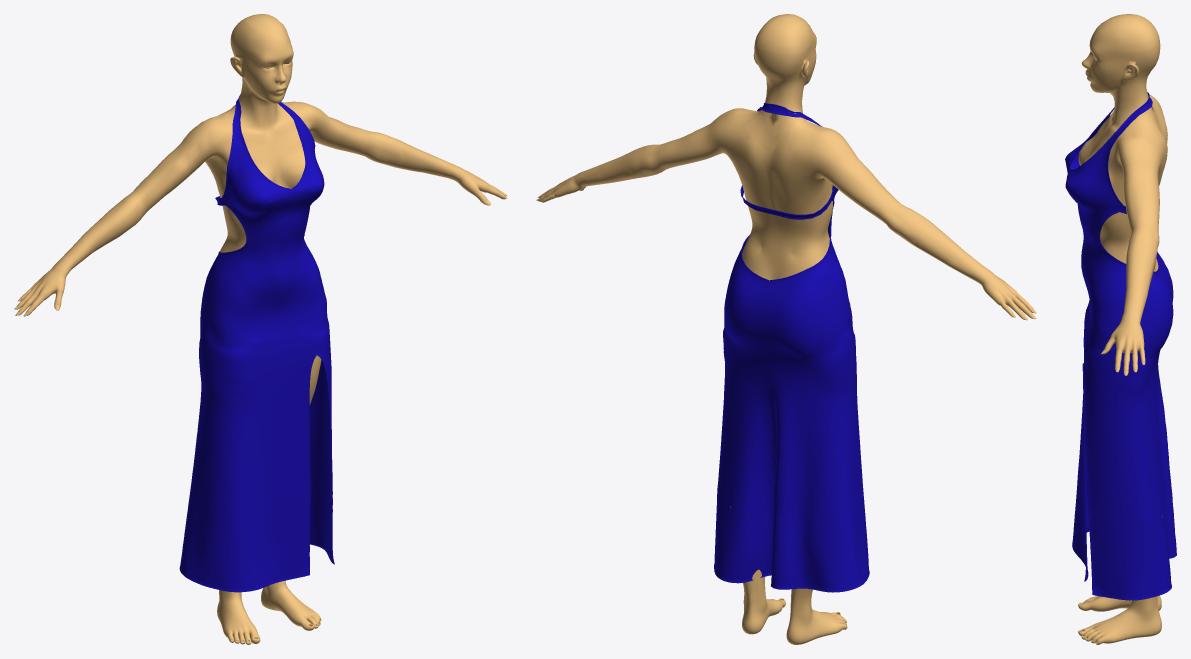
The model's file is dress9.glb.
The picture shows the model from 3 angles, left to right: view 1: azimuth 30°, elevation 25°; view 2: azimuth 150°, elevation 25°; view 3: azimuth 270°, elevation 25°; orthographic projection.
Parts seen in each view (by area): view 1: EveningDress, Body; view 2: EveningDress, Body; view 3: EveningDress, Body.
Part boxes in pixels (x1,y1,x2,y2): EveningDress: (179, 94, 334, 592); Body: (16, 14, 506, 644); EveningDress: (714, 103, 869, 592); Body: (538, 14, 1033, 644); EveningDress: (1065, 92, 1176, 600); Body: (1078, 14, 1167, 644).
Size of the model in its own units: 1.58 by 1.85 by 0.3089.
